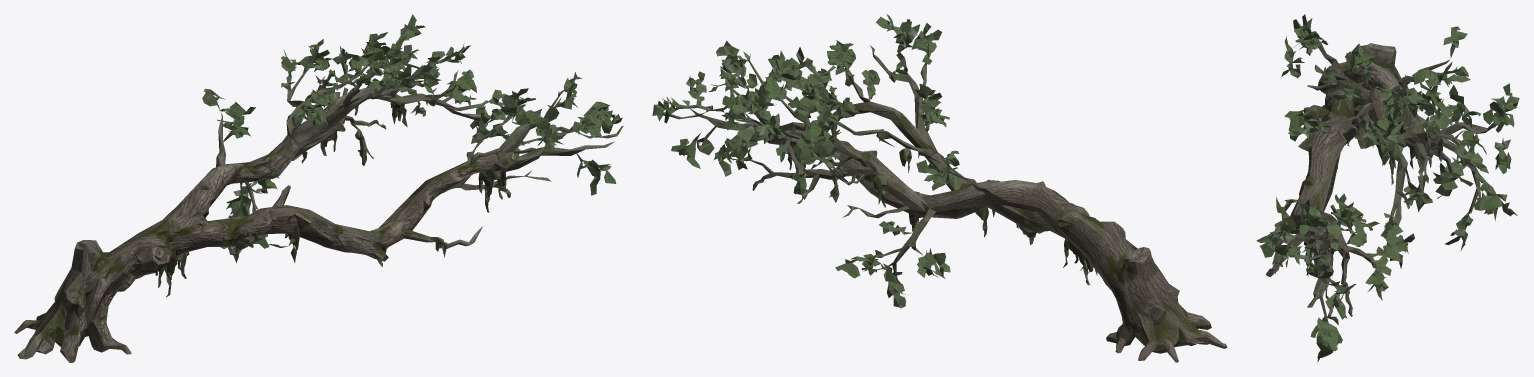
File: meshy-river-oak.glb
3 renders of one model, left to right at view 1: azimuth 30°, elevation 25°; view 2: azimuth 150°, elevation 25°; view 3: azimuth 270°, elevation 25°, orthographic. The views are drawn at different scales.
Visible parts, largest first — view 1: Mesh_0; view 2: Mesh_0; view 3: Mesh_0.
Part boxes in pixels (box(x1,y1,x2,y2)): Mesh_0: box(14, 14, 623, 362); Mesh_0: box(652, 14, 1227, 362); Mesh_0: box(1256, 14, 1519, 362).
Bounding box in the file's own units: 1.11 × 0.4304 × 0.3847.
Materials: 1 (1 with a texture image).
